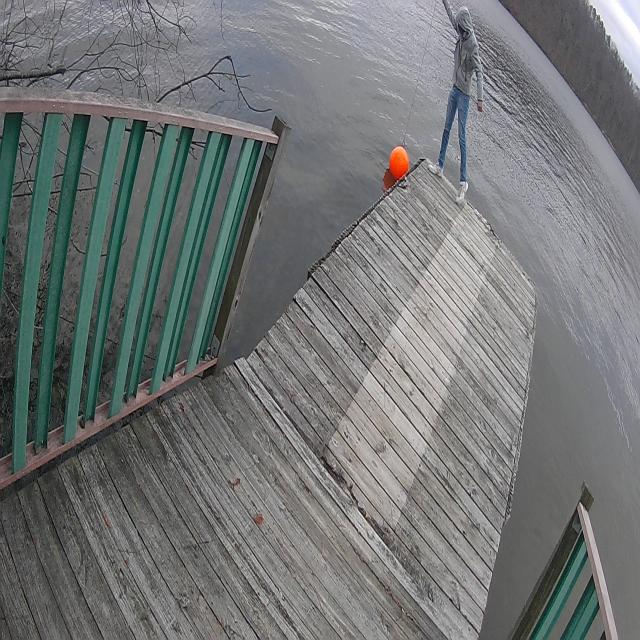Buoy: (385, 134, 413, 182)
